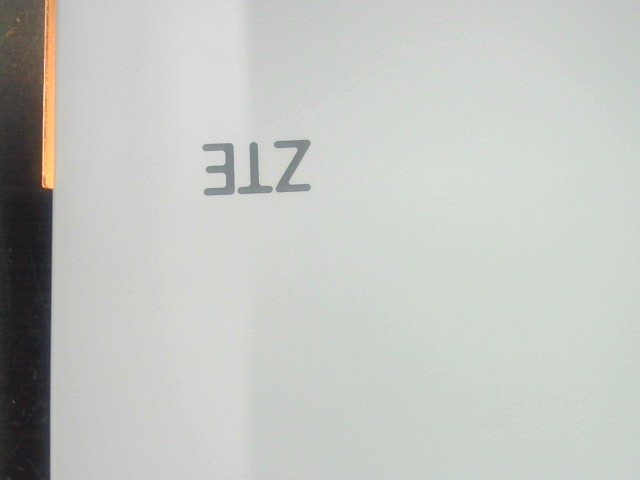AO_ZTESmall: (191, 128, 327, 203)
